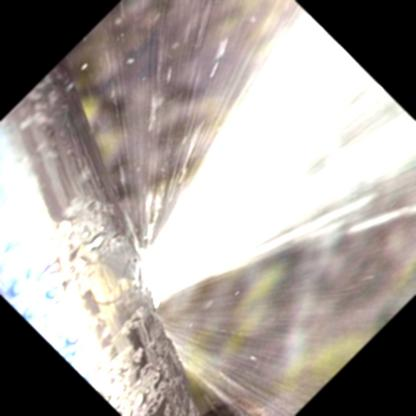burst: (122, 208, 209, 331)
